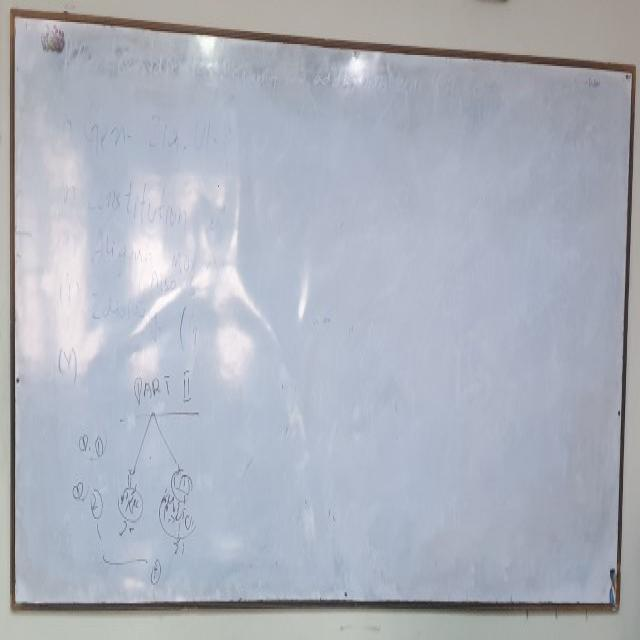White-board: (13, 12, 636, 604)
